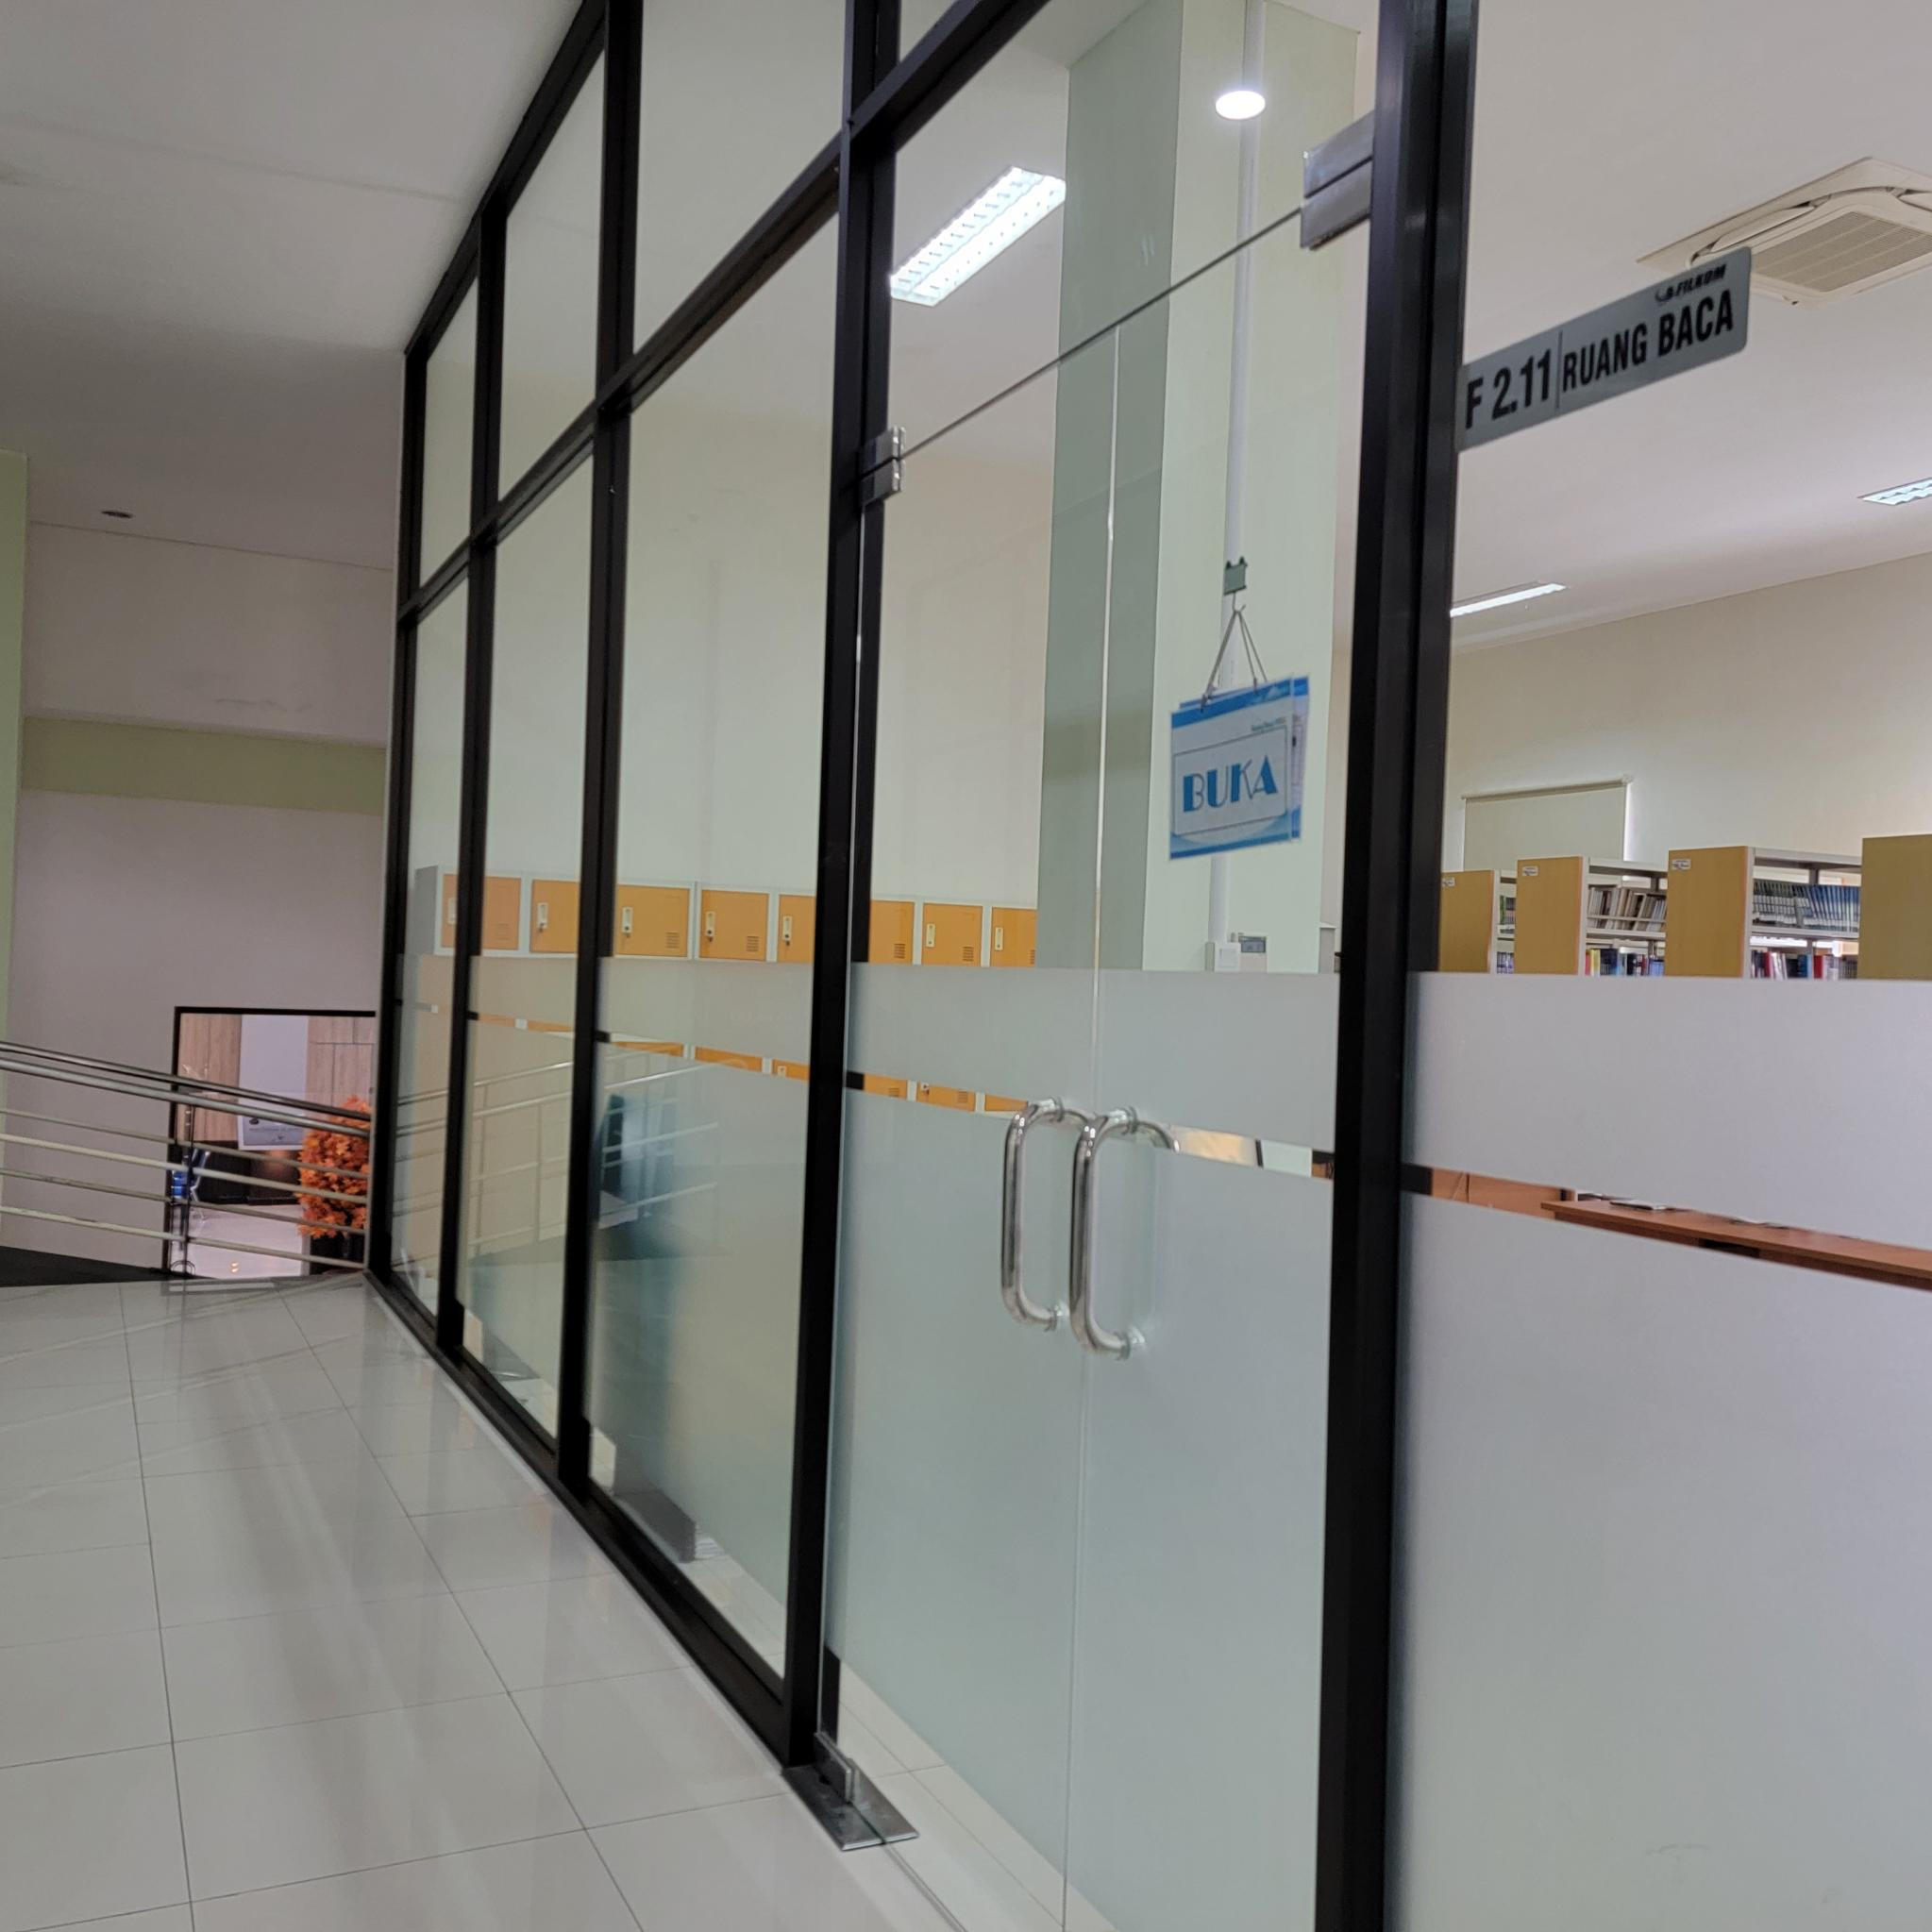plate: (1454, 242, 1753, 455)
